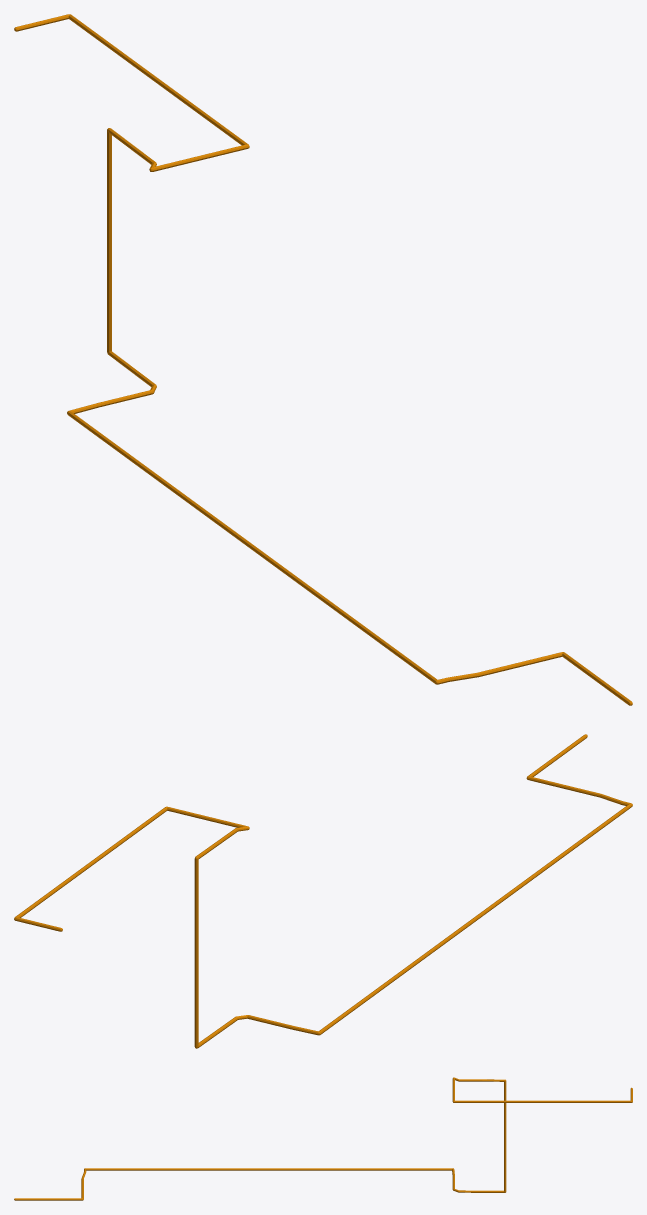
The picture shows the model from 3 angles, top to bottom: view 1: azimuth 30°, elevation 25°; view 2: azimuth 150°, elevation 25°; view 3: azimuth 270°, elevation 25°; orthographic projection. The views are drawn at different scales.
Bounding box in the file's own units: 862 × 1020 × 5047.
